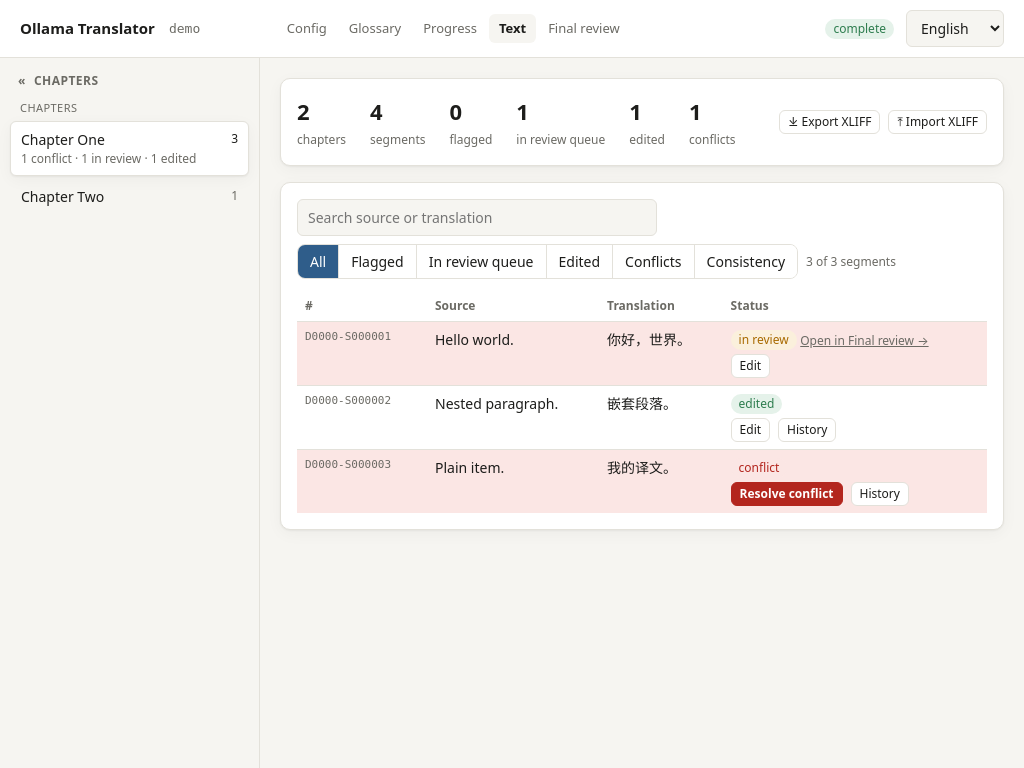
Text tab › reading the book › filters rows by state and by search text
This screenshot has width=1024, height=768.
Expected: the text "Hello world." is shown, [427,322,599,386]
Click the radio button labelled "Edited". click: (580, 262)
box: [546,245,613,278]
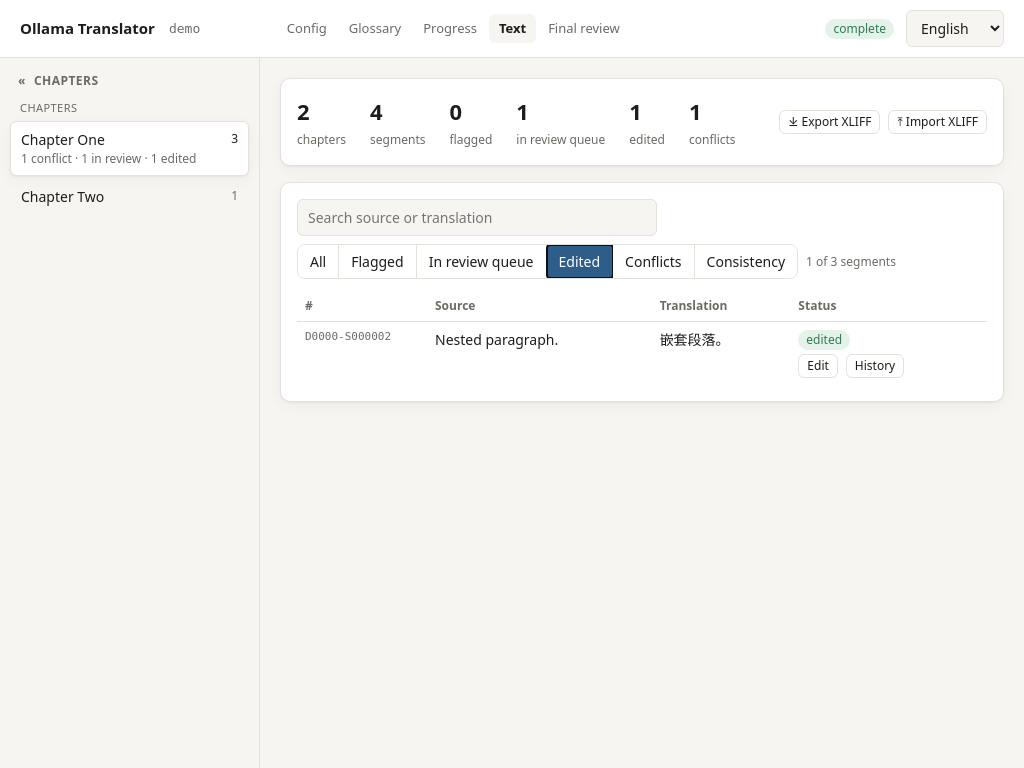
Expected: the text "Nested paragraph." is shown, [427,322,652,385]
Expected: the text "Hello world." is gone
Expected: the text "1 of 3 segments" is shown, [806,252,896,270]
Click the radio button labelled "All". click: (319, 262)
box: [298,245,339,278]
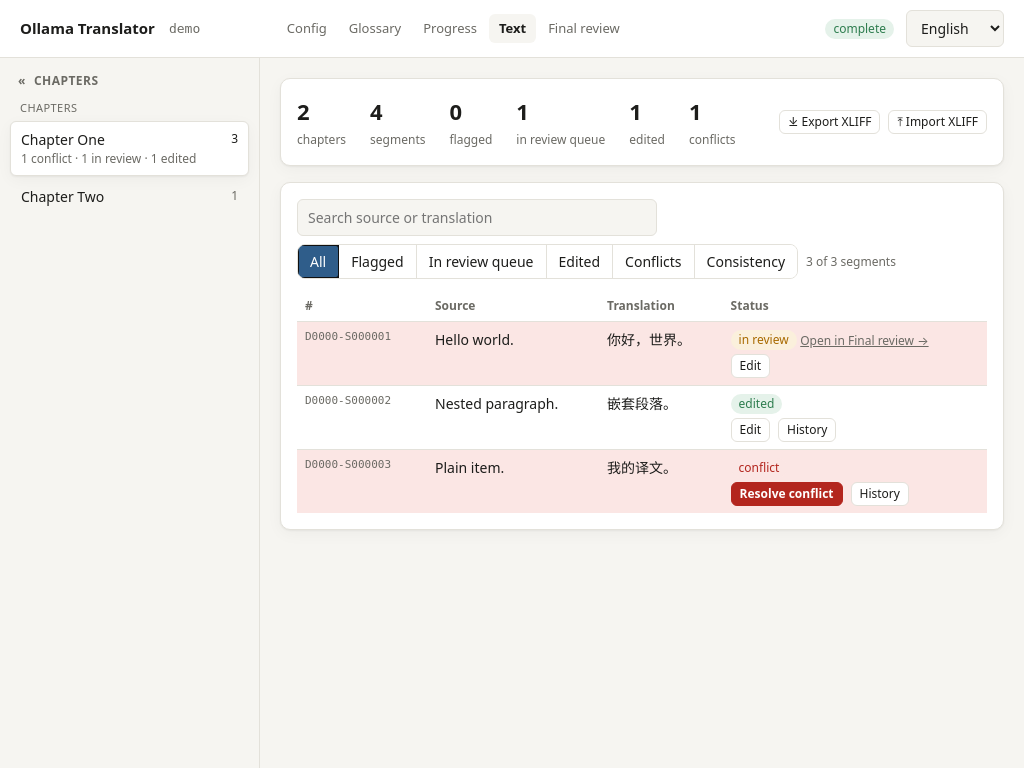
Type "plain" into the field with placeholder "Search source or translation". click: (477, 218)
box: [297,199,657,236]
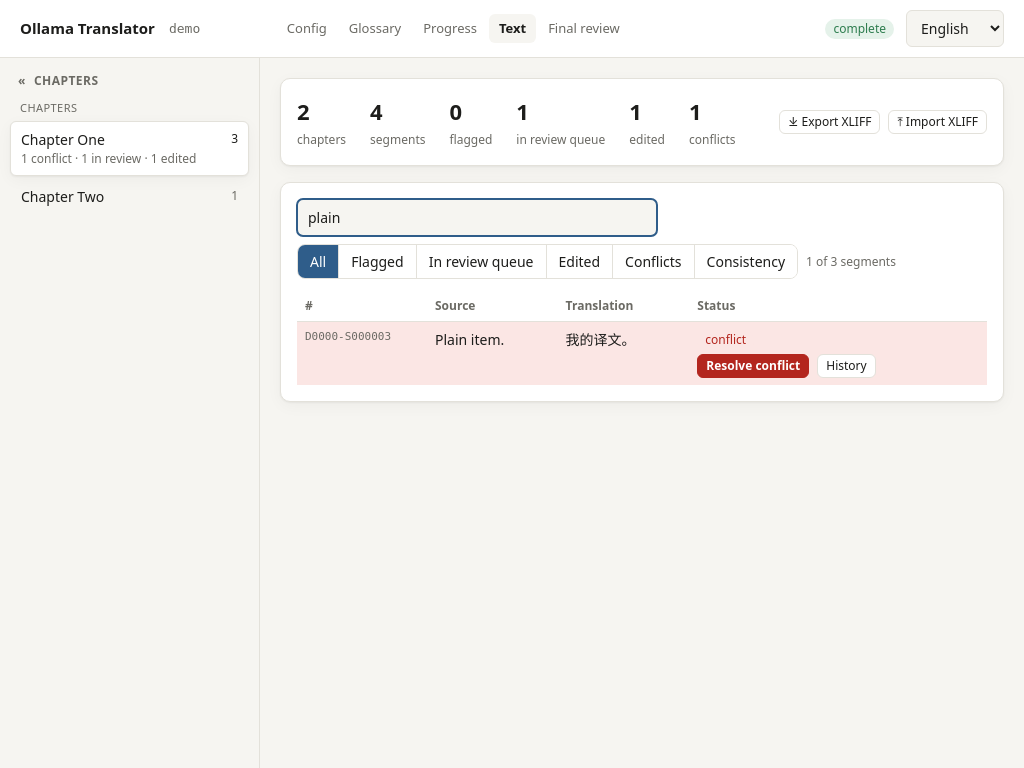
Expected: the text "Plain item." is shown, [427,322,558,385]
Expected: the text "Nested paragraph." is gone
Replace the text in the field with placeholder "Search source or translation" with "no such text". click: (477, 218)
box: [297,199,657,236]
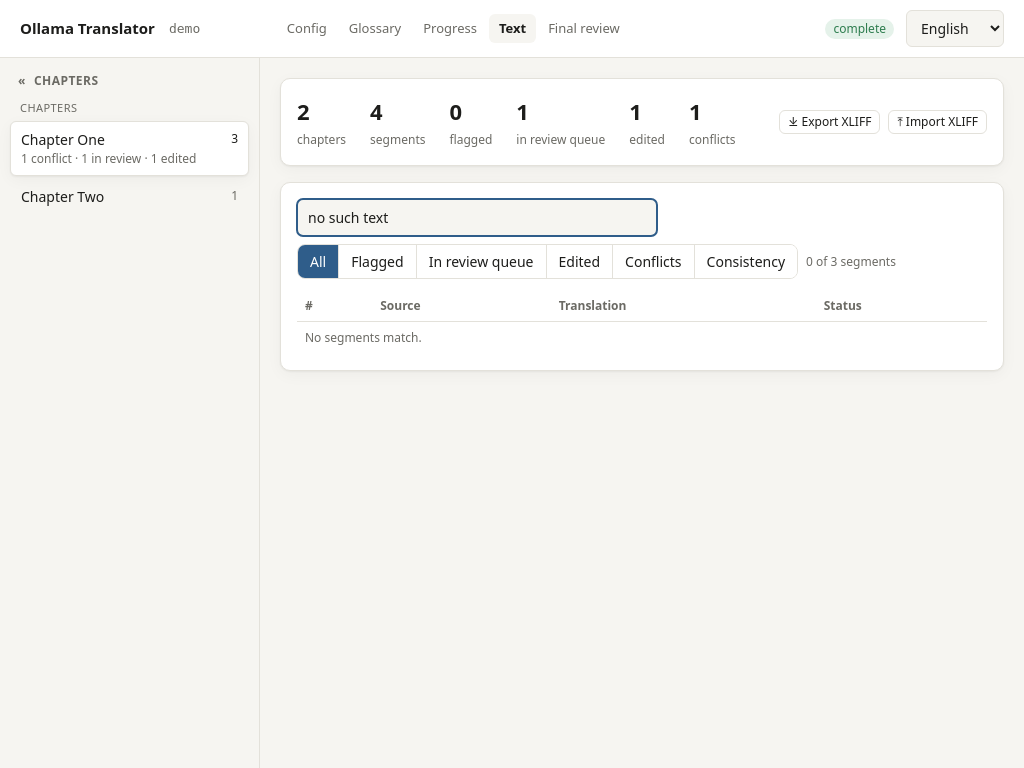
Expected: the text "No segments match." is shown, [297,322,987,354]
